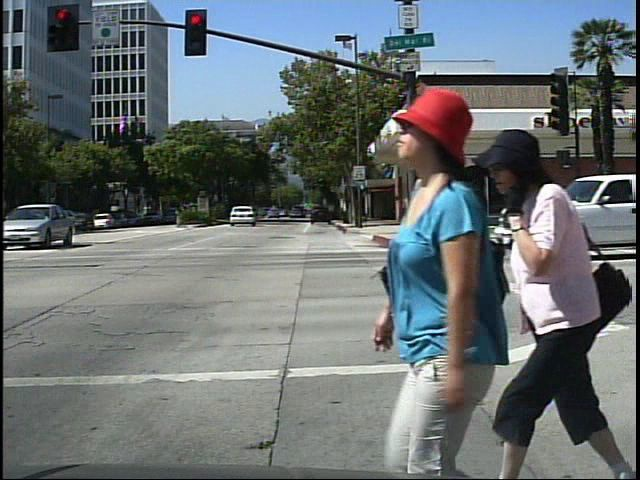person: (365, 67, 523, 479), (491, 116, 622, 480)
